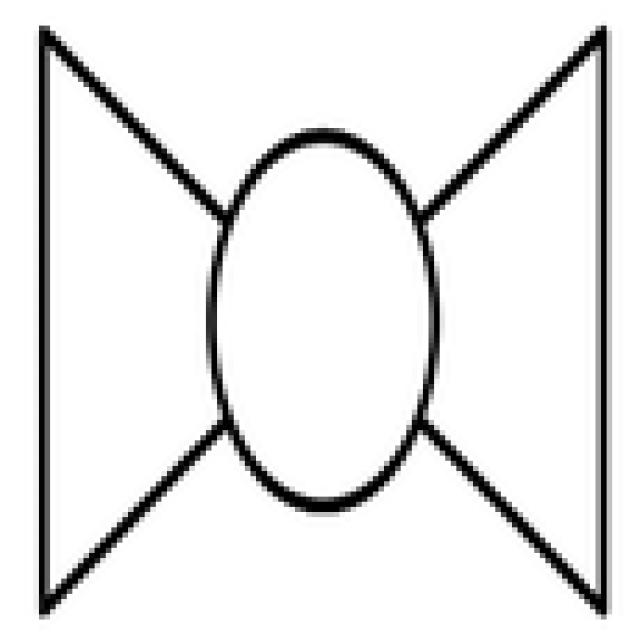ball valve: (46, 28, 606, 618)
